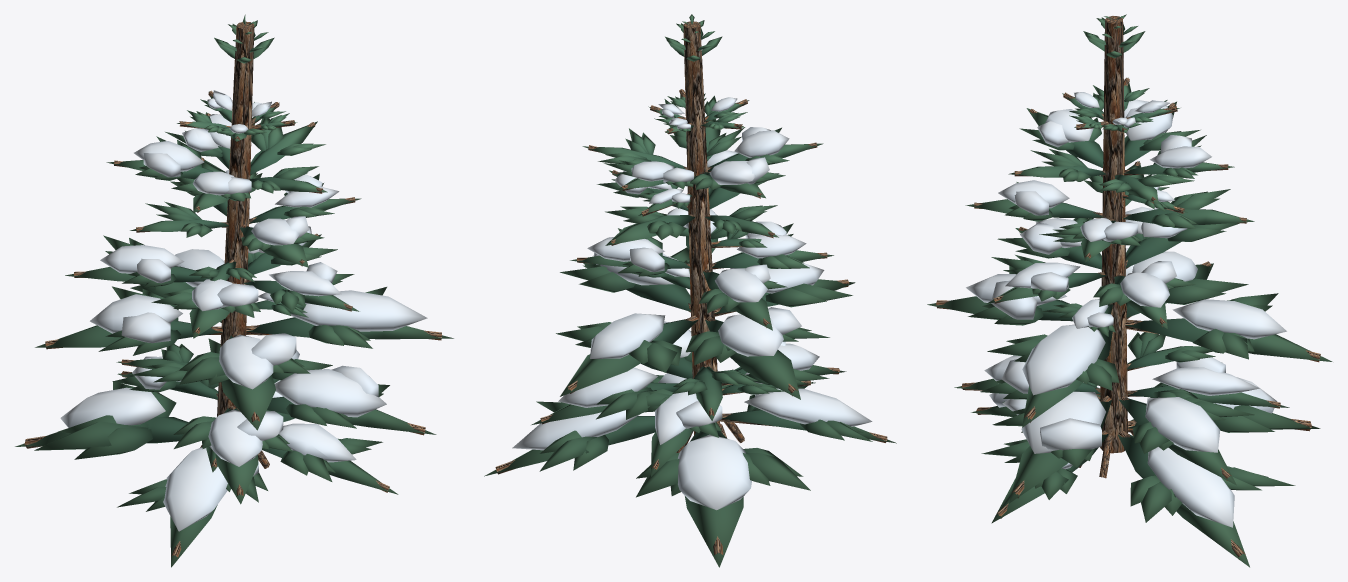
Rendered from tree19.glb.
3 renders of one model, left to right at view 1: azimuth 30°, elevation 25°; view 2: azimuth 150°, elevation 25°; view 3: azimuth 270°, elevation 25°, orthographic. The views are drawn at different scales.
Parts seen in each view (by area): view 1: Alpine19_1 (×2), Alpine19_2 (×2), Alpine19_0 (×2); view 2: Alpine19_1 (×2), Alpine19_2 (×2), Alpine19_0 (×2); view 3: Alpine19_1 (×2), Alpine19_2 (×2), Alpine19_0 (×2).
Boxes of the visible parts, x1=… form: Alpine19_1 (×2): x1=15, y1=14, x2=453, y2=567; Alpine19_2 (×2): x1=60, y1=90, x2=427, y2=531; Alpine19_0 (×2): x1=24, y1=21, x2=441, y2=557; Alpine19_1 (×2): x1=484, y1=14, x2=896, y2=567; Alpine19_2 (×2): x1=512, y1=97, x2=871, y2=510; Alpine19_0 (×2): x1=495, y1=21, x2=887, y2=555; Alpine19_1 (×2): x1=927, y1=14, x2=1332, y2=567; Alpine19_2 (×2): x1=966, y1=92, x2=1286, y2=527; Alpine19_0 (×2): x1=936, y1=16, x2=1320, y2=559.
Size of the model in its own units: 2.93 by 3.97 by 3.05.
Materials: 6 (2 with a texture image).
